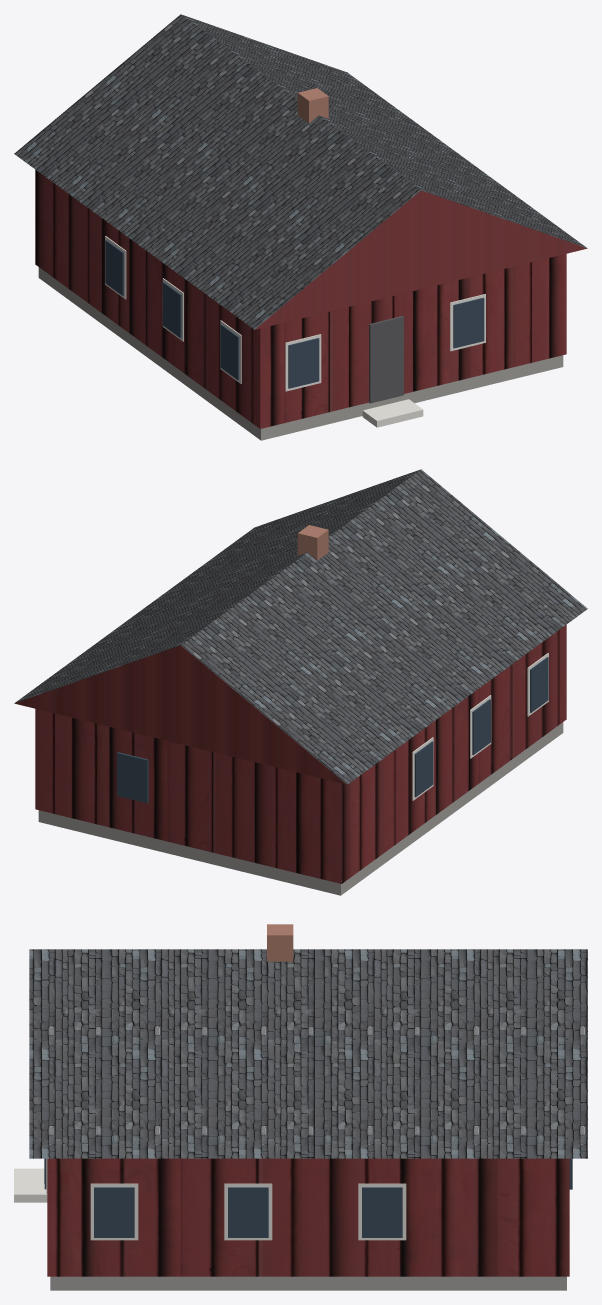
The model's file is asset.glb.
3 views of the same model, one above another, from view 1: azimuth 30°, elevation 25°; view 2: azimuth 150°, elevation 25°; view 3: azimuth 270°, elevation 25° (orthographic). The views are drawn at different scales.
Visible parts, largest first — view 1: roof, body, gable_end, foundation, door, win.001, win, step, chimney, win.002, win.004, win.003 (+1 smaller); view 2: roof, body, gable_end, foundation, win.008, chimney, win.004, win.003, win.002; view 3: roof, body, foundation, win.005, win.006, win.007, step, chimney, win_trim.006, win_trim.007, win_trim.005.
Part boxes in pixels (<box>): roof: <box>14,14,586,329</box>; body: <box>35,169,566,428</box>; gable_end: <box>255,190,587,329</box>; foundation: <box>38,267,563,440</box>; door: <box>369,316,403,403</box>; win.001: <box>453,297,484,348</box>; win: <box>288,338,319,388</box>; step: <box>362,399,423,427</box>; chimney: <box>297,88,328,123</box>; win.002: <box>220,324,239,380</box>; win.004: <box>105,240,123,295</box>; win.003: <box>163,282,181,337</box>; roof: <box>15,469,587,784</box>; body: <box>35,624,566,883</box>; gable_end: <box>14,645,346,784</box>; foundation: <box>38,722,563,895</box>; win.008: <box>117,752,148,803</box>; chimney: <box>297,525,328,560</box>; win.004: <box>414,741,433,797</box>; win.003: <box>472,699,490,754</box>; win.002: <box>530,657,548,712</box>; roof: <box>29,949,587,1158</box>; body: <box>47,1158,569,1276</box>; foundation: <box>50,1276,566,1290</box>; win.005: <box>94,1187,134,1237</box>; win.006: <box>228,1187,268,1237</box>; win.007: <box>362,1187,402,1237</box>; step: <box>14,1168,47,1202</box>; chimney: <box>267,924,293,961</box>; win_trim.006: <box>224,1183,272,1240</box>; win_trim.007: <box>358,1183,406,1240</box>; win_trim.005: <box>90,1183,138,1240</box>.
Bounding box in the file's own units: 9.35 × 6.35 × 12.
7 materials, 2 textured.
